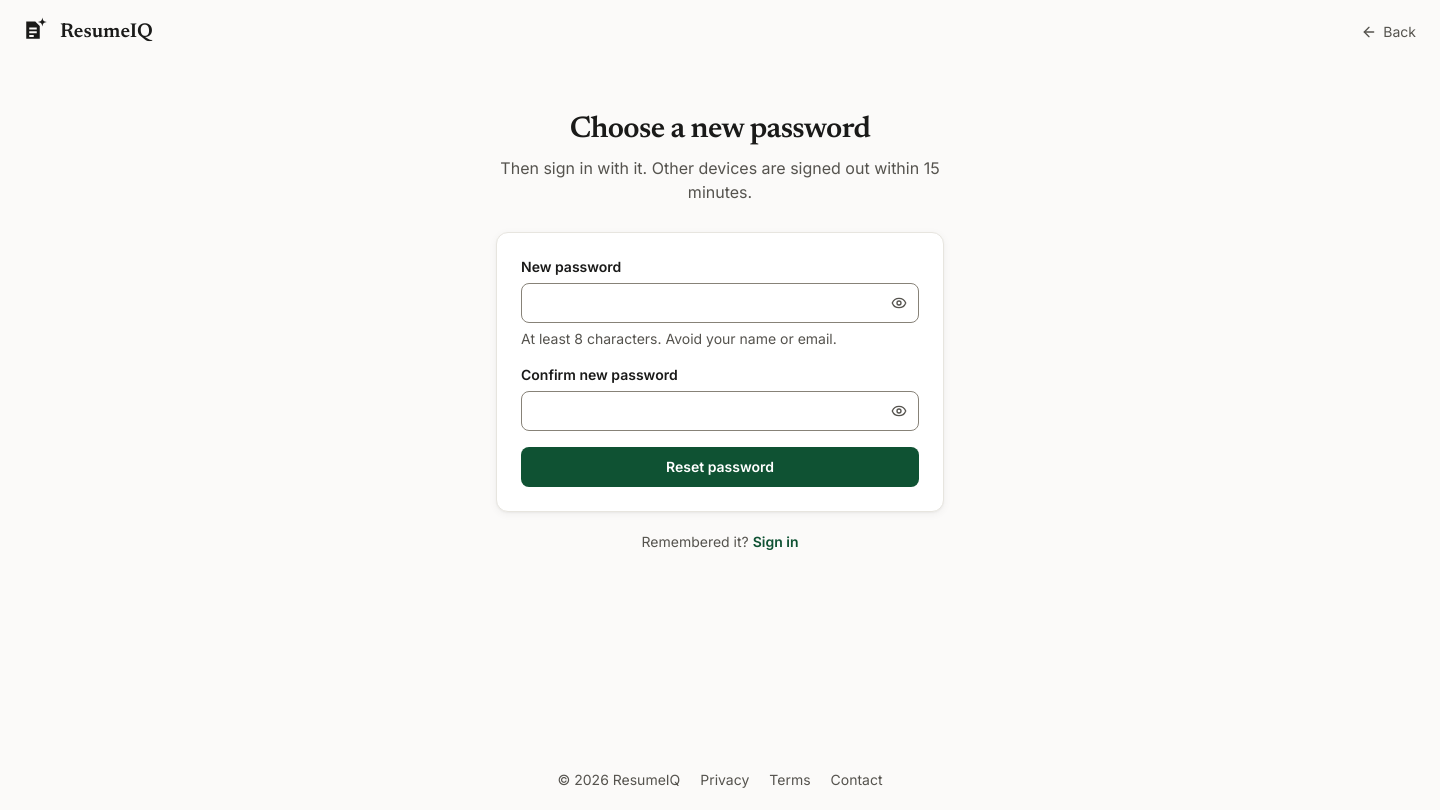
ResetPasswordPage › shows the server's password error under the field
Step 1. Type "maya@example" into the password field labelled "New password" → (720, 303), box x1=521 y1=283 x2=919 y2=323
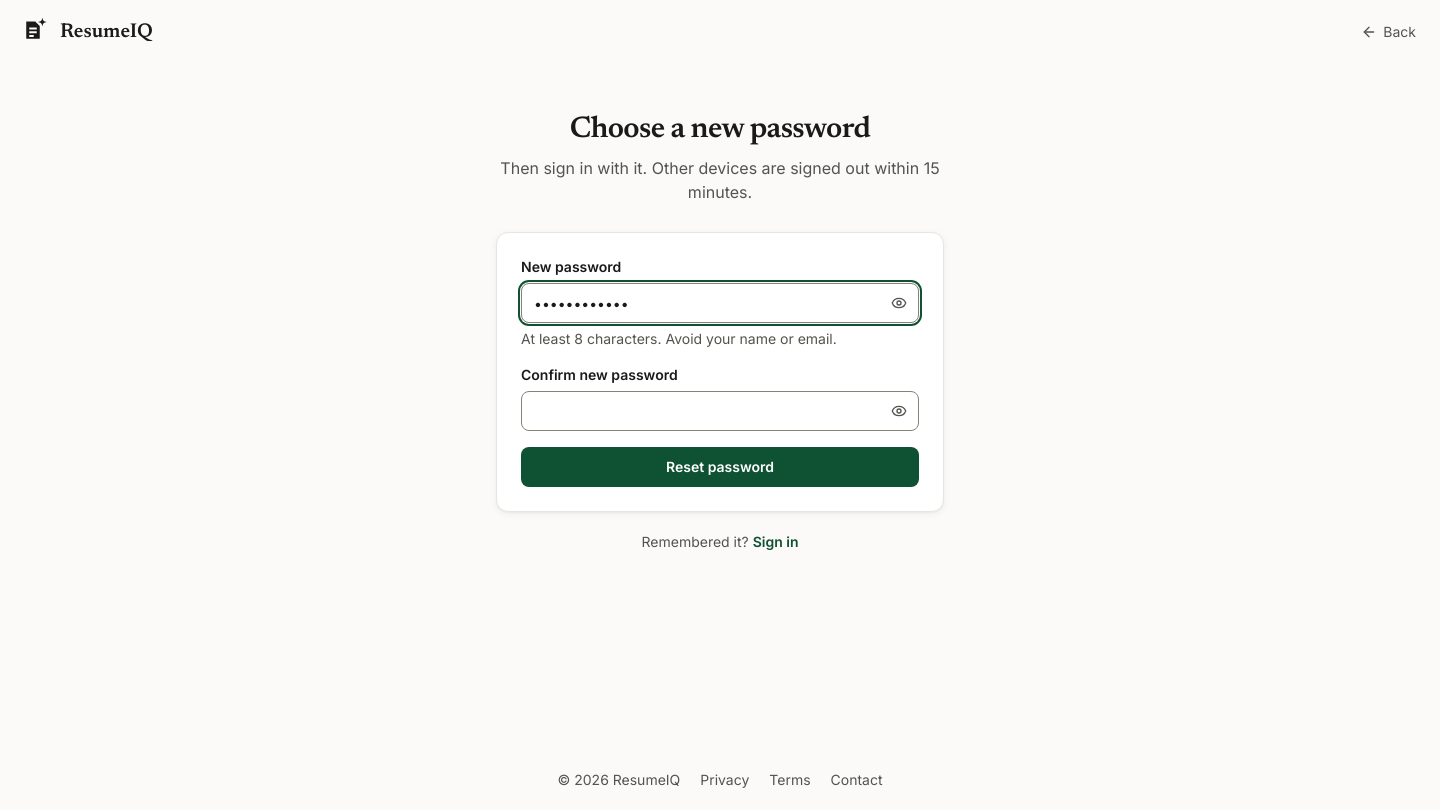
Step 2. Type "maya@example" into the password field labelled "Confirm new password" → (720, 411), box x1=521 y1=391 x2=919 y2=431
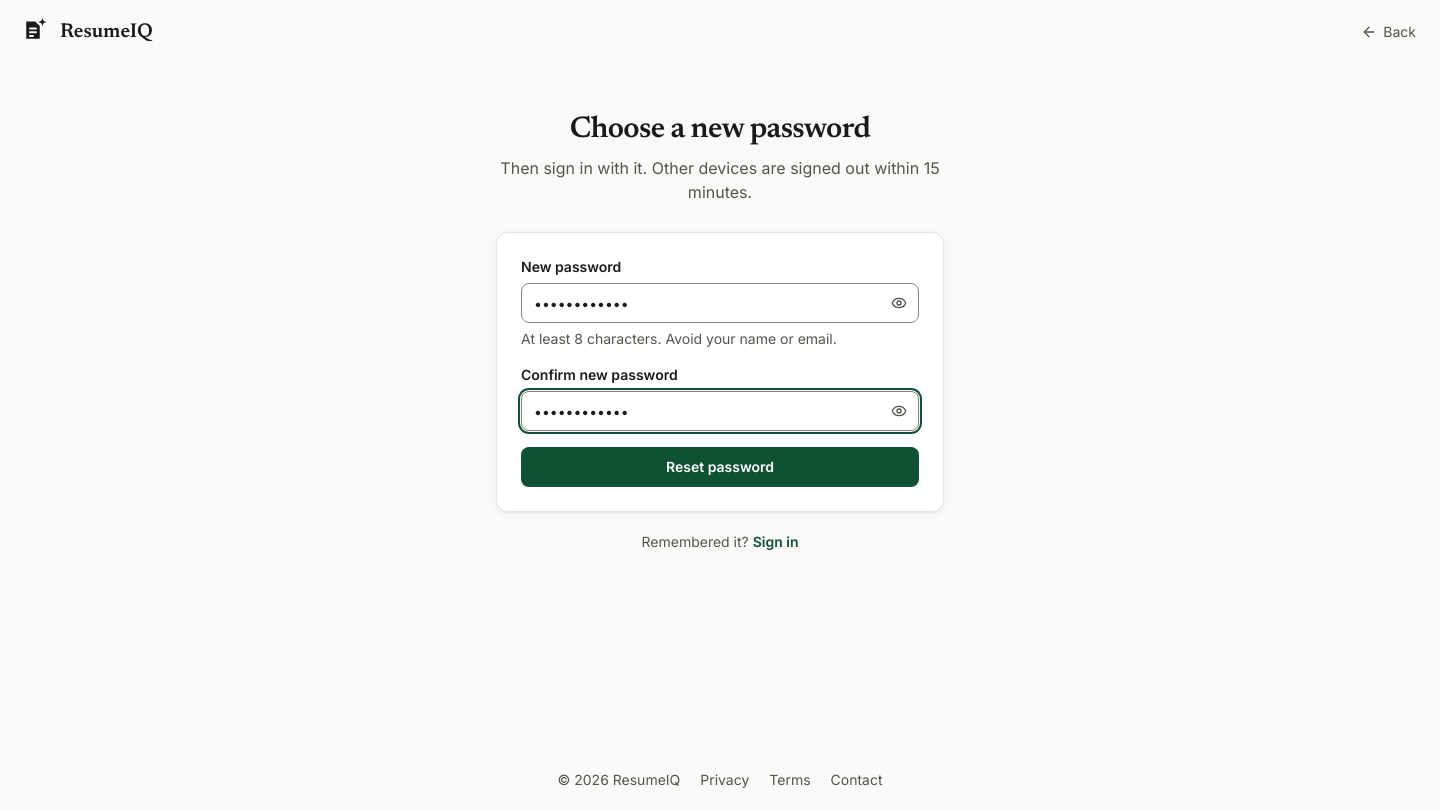
Step 3. Click the button "Reset password" → (720, 467), box x1=521 y1=447 x2=919 y2=487
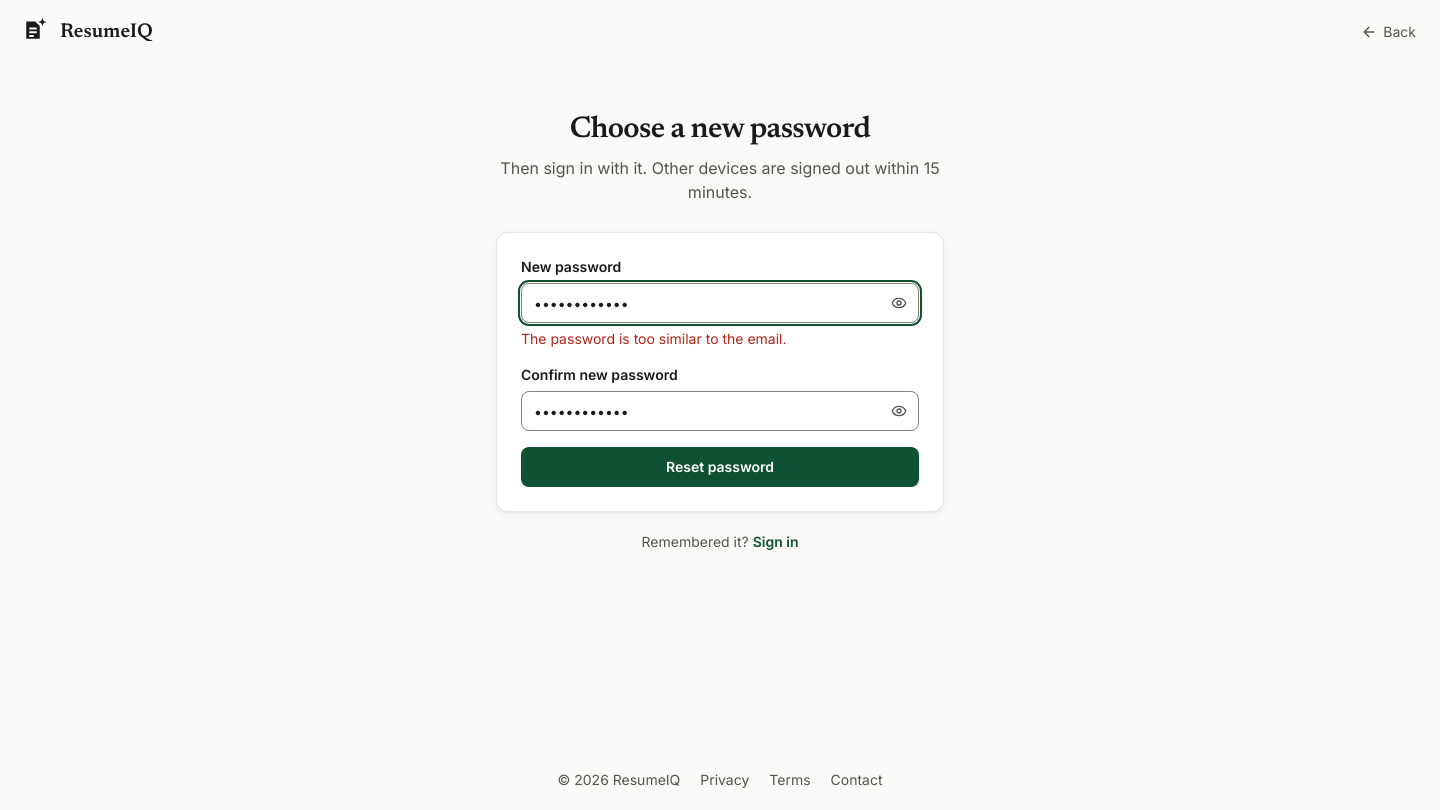
Result: the text "The password is too similar to the email." is shown at x1=521 y1=330 x2=786 y2=347
